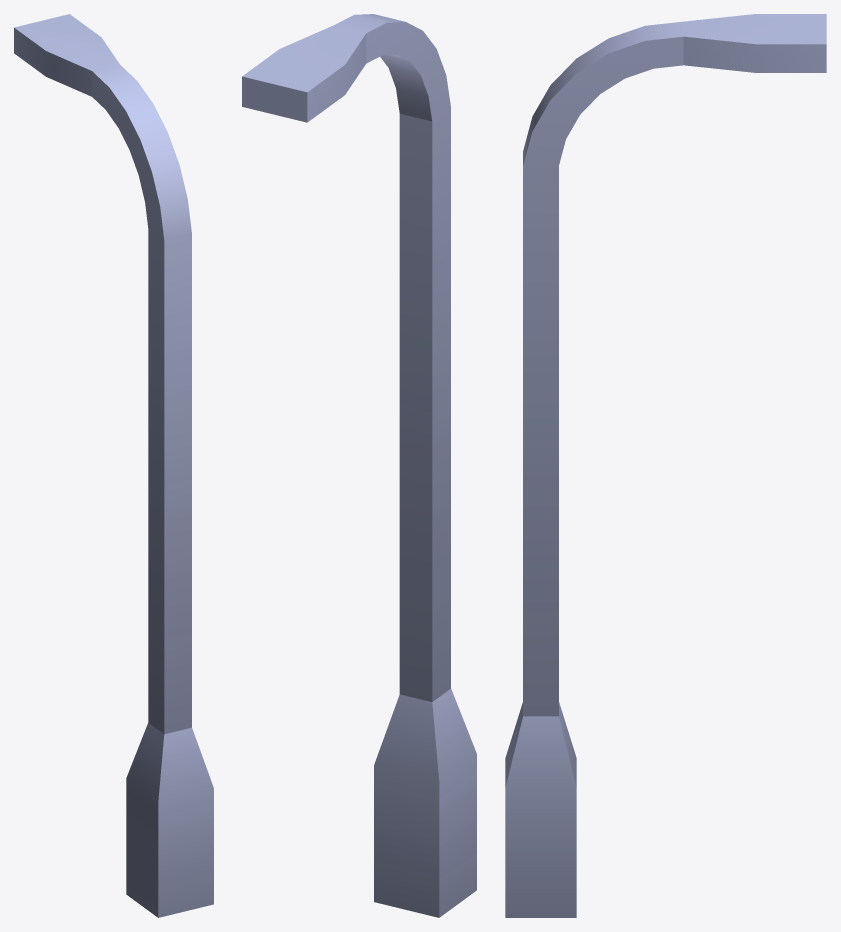
Rendered from roads-light-curved.glb.
The picture shows the model from 3 angles, left to right: view 1: azimuth 30°, elevation 25°; view 2: azimuth 150°, elevation 25°; view 3: azimuth 270°, elevation 25°; orthographic projection. The views are drawn at different scales.
Visible parts, largest first — view 1: light-curved; view 2: light-curved; view 3: light-curved.
Boxes of the visible parts, x1,y1,x2,y2 form: light-curved: [14, 14, 213, 917]; light-curved: [242, 14, 476, 917]; light-curved: [505, 14, 826, 917].
Bounding box in the file's own units: 0.05 × 0.675 × 0.225.
1 material, 1 textured.
